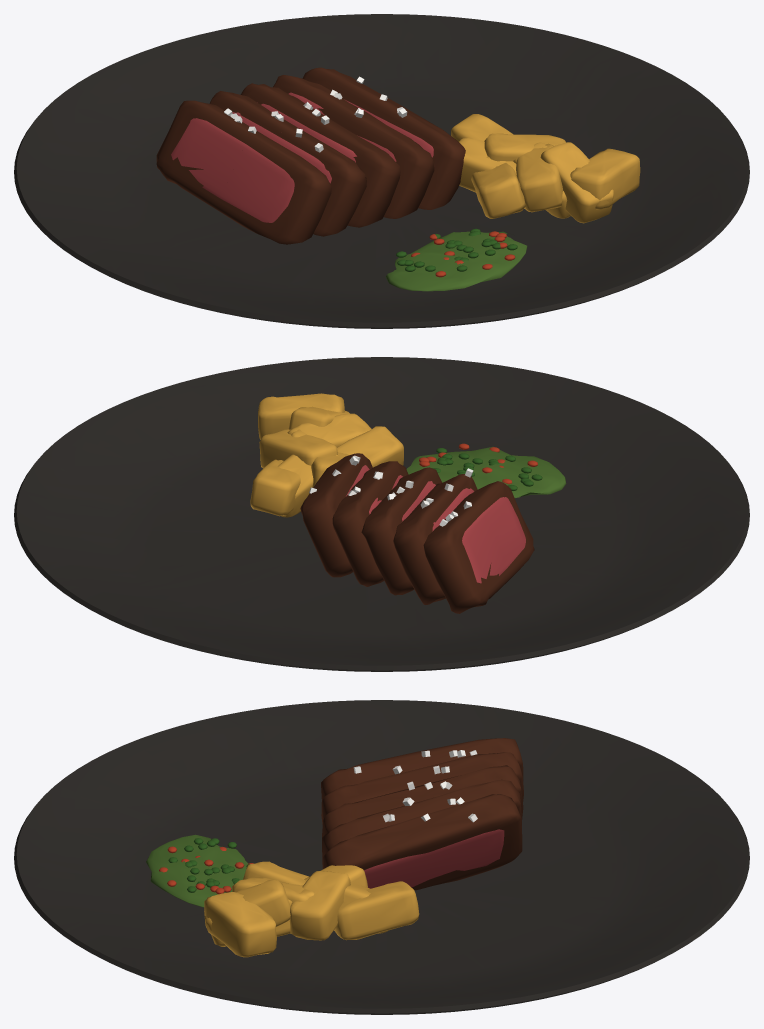
File: ojo-de-bife.glb
3 views of the same model, one above another, from view 1: azimuth 30°, elevation 25°; view 2: azimuth 150°, elevation 25°; view 3: azimuth 270°, elevation 25° (orthographic).
Parts seen in each view (by area): view 1: ojo-de-bife; view 2: ojo-de-bife; view 3: ojo-de-bife.
Boxes of the visible parts, <box> form: ojo-de-bife: <box>14,14,749,328</box>; ojo-de-bife: <box>14,357,749,671</box>; ojo-de-bife: <box>14,700,749,1014</box>.
Bounding box in the file's own units: 0.272 × 0.0475 × 0.272.
